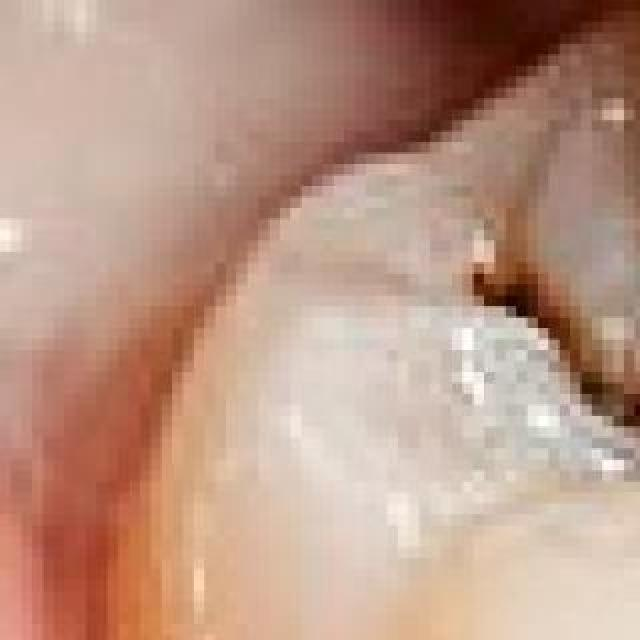cavities: (426, 202, 640, 640)
